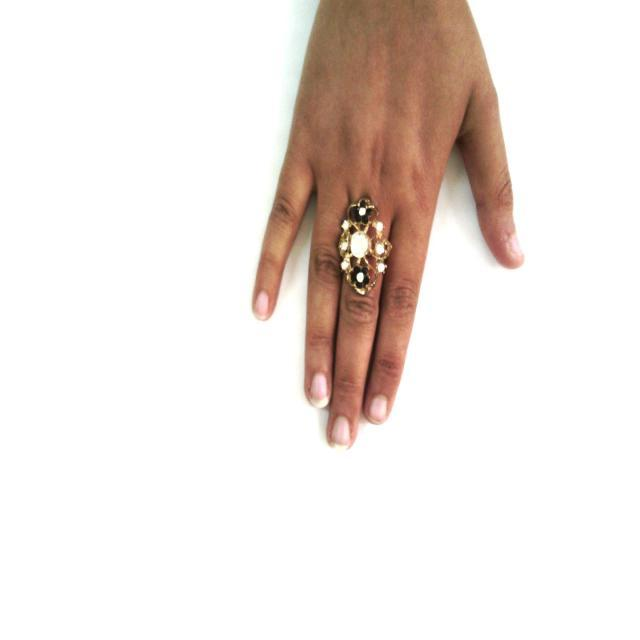Fingernail: (330, 416, 351, 451), (309, 374, 329, 408), (367, 395, 387, 423), (255, 292, 269, 320), (509, 235, 523, 258)
